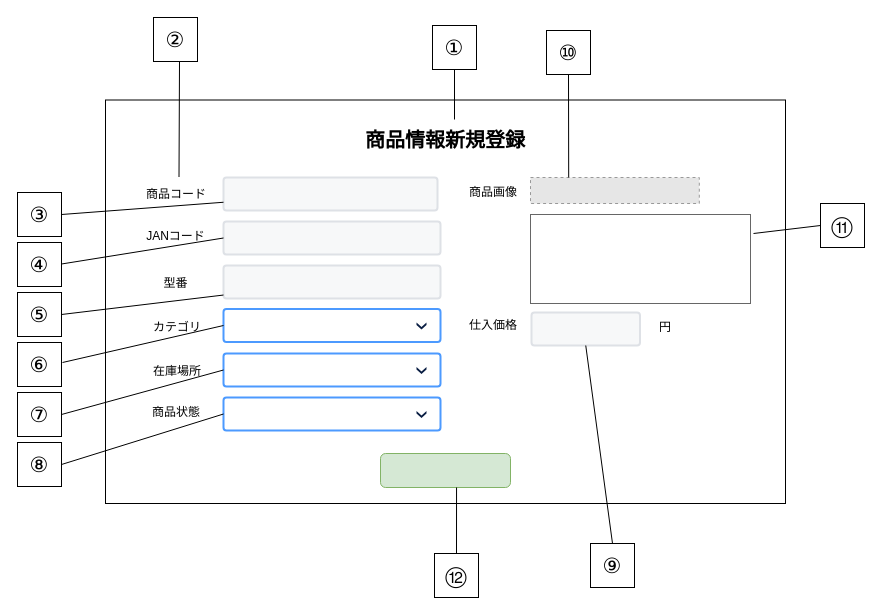
This 882x615 diagram has some shape labels left out. Grey dashed boxes stand in for pictures. The centre of each missing label's shape, as x and y in pixels:
画像: the point at 640,259
登録: the point at 445,470
